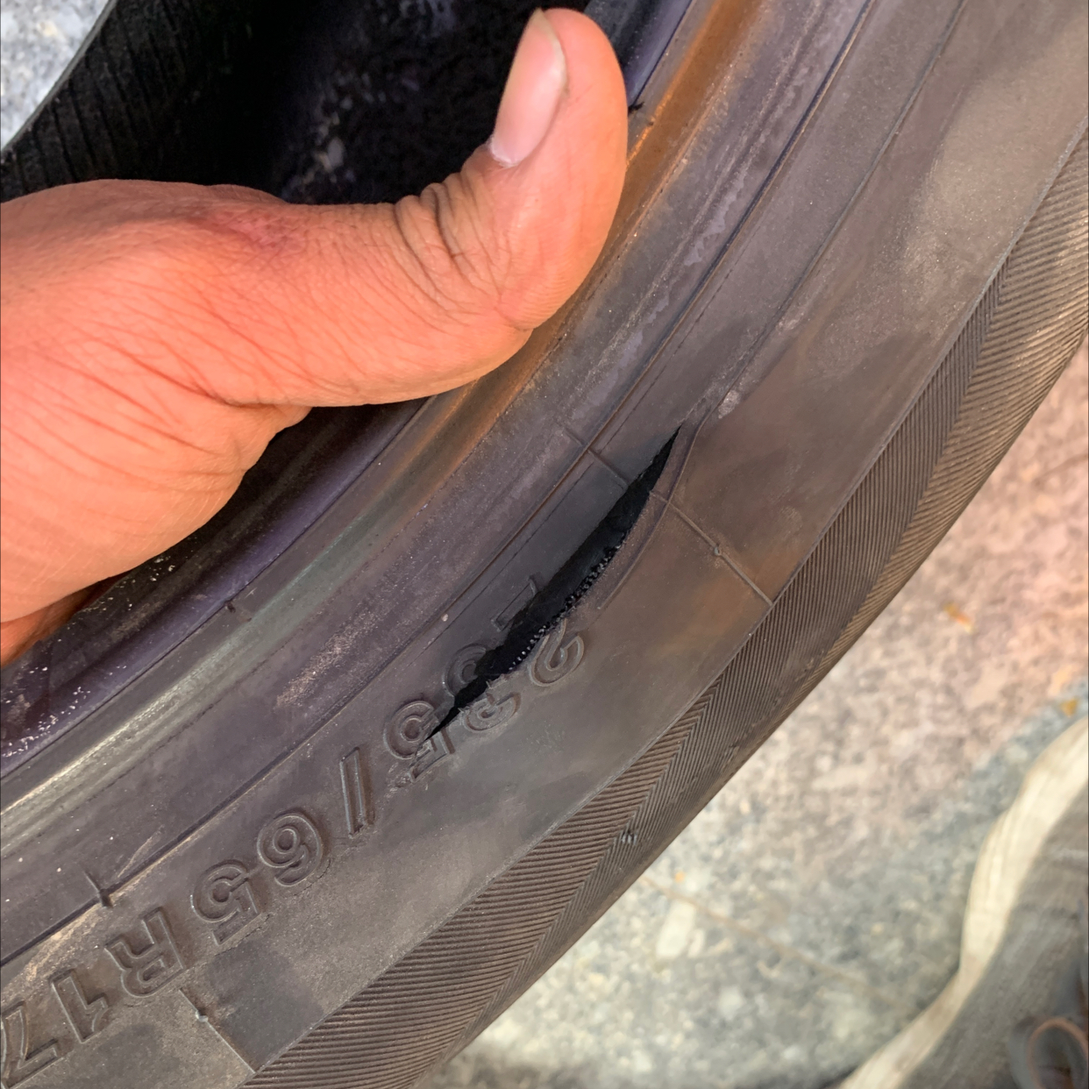cut: (405, 411, 693, 750)
